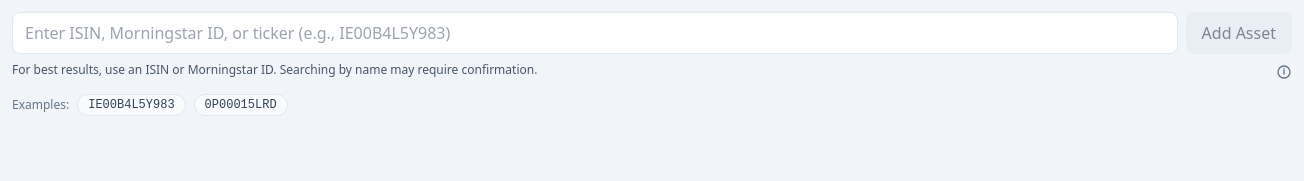
it: AssetInput › API error handling › should show error message when API call fails
Type "IE00B4L5Y983" into the field named "Asset identifier input" at coordinates (595, 33), box [12,12,1178,54]
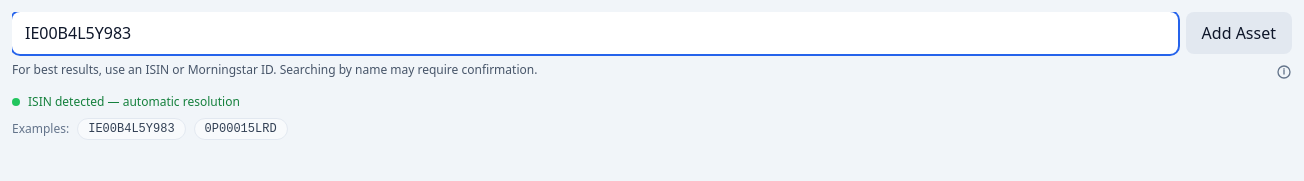
Click the button "Add Asset" at coordinates (1239, 33), box [1186,12,1292,54]
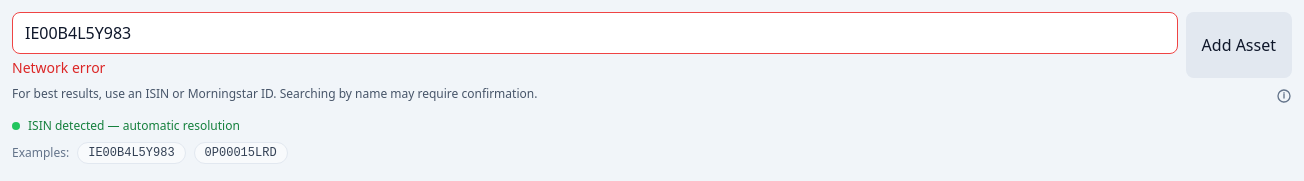
Result: the text "Network error" is shown at [12,58,105,77]
